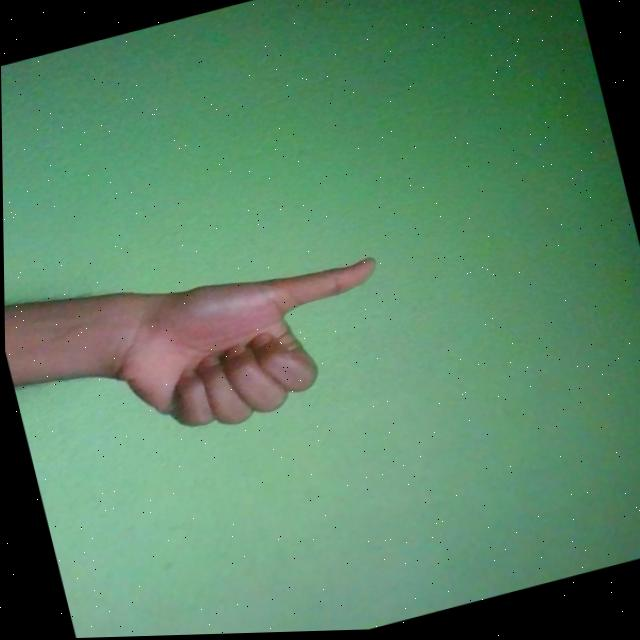Good Job: (91, 243, 405, 453)
